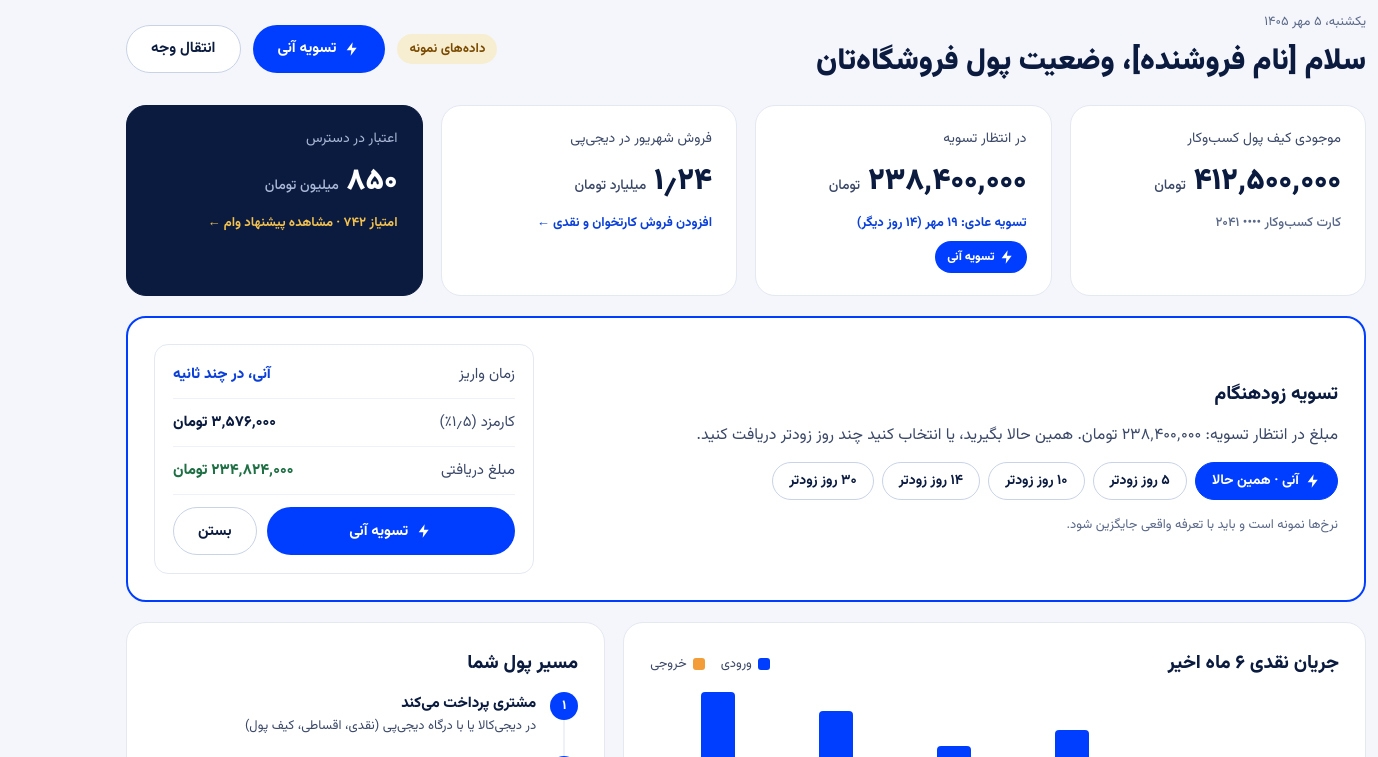
Test: settles instantly into the wallet by default
The width and height of the screenshot is (1378, 757).
Expected: the radio button labelled "آنی · همین حالا" is checked, [1195, 462, 1338, 500]
Expected: the text "۳٬۵۷۶٬۰۰۰ تومان" is shown, [173, 411, 276, 434]
Click the button "تسویه آنی" below "مبلغ دریافتی" at (391, 531), box [267, 507, 515, 555]
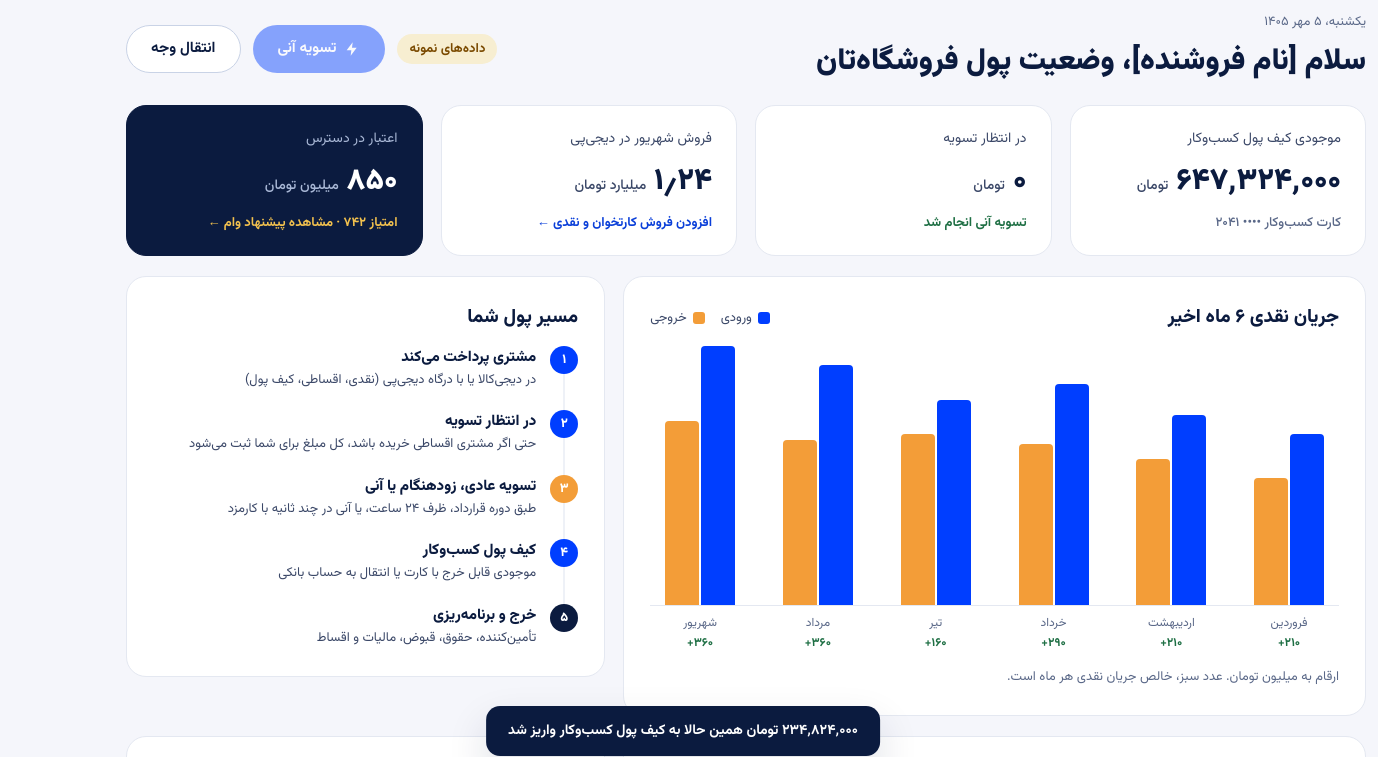
Now the text "تسویه آنی انجام شد" is shown, box [924, 213, 1026, 233]
